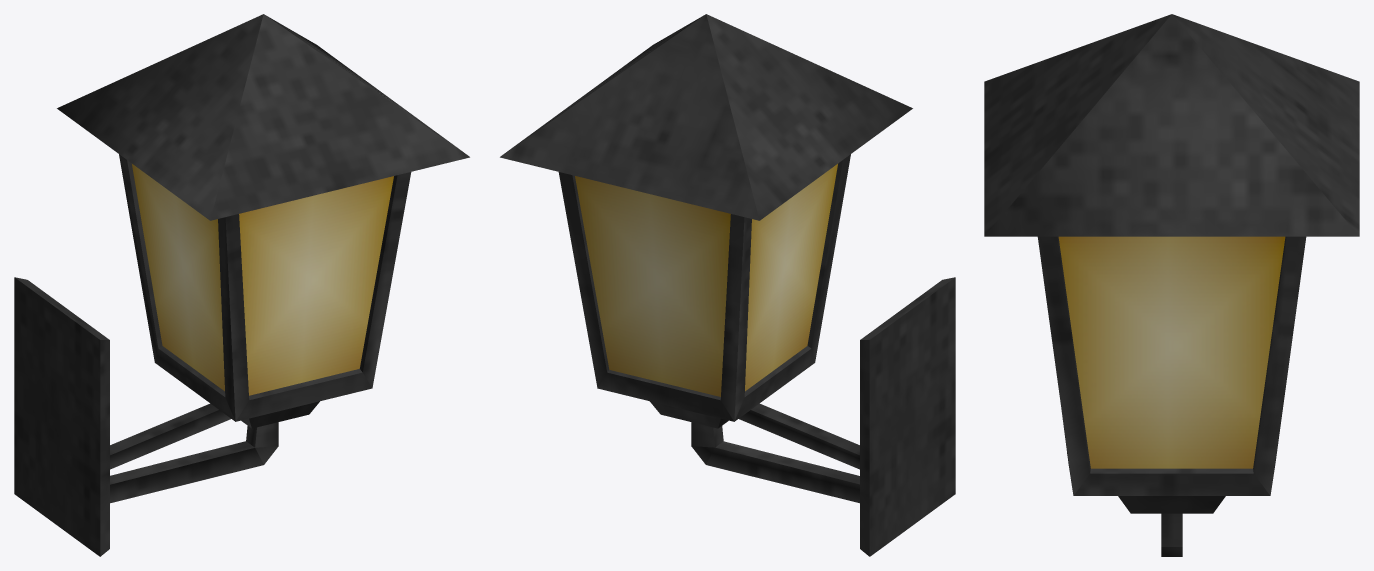
Rendered from MS_Lantern_2.fbx.
3 renders of one model, left to right at view 1: azimuth 30°, elevation 25°; view 2: azimuth 150°, elevation 25°; view 3: azimuth 270°, elevation 25°, orthographic. The views are drawn at different scales.
Parts seen in each view (by area): view 1: MSH_Lantern.001; view 2: MSH_Lantern.001; view 3: MSH_Lantern.001.
Boxes of the visible parts, <box> form: MSH_Lantern.001: <box>14,14,469,556</box>; MSH_Lantern.001: <box>500,14,955,556</box>; MSH_Lantern.001: <box>984,14,1359,556</box>.
Bounding box in the file's own units: 43.38 × 56.81 × 34.3.
